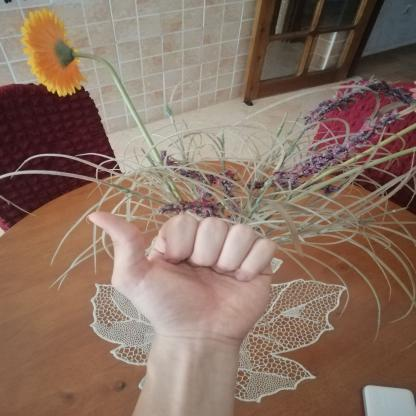DAD: (73, 199, 285, 350)
